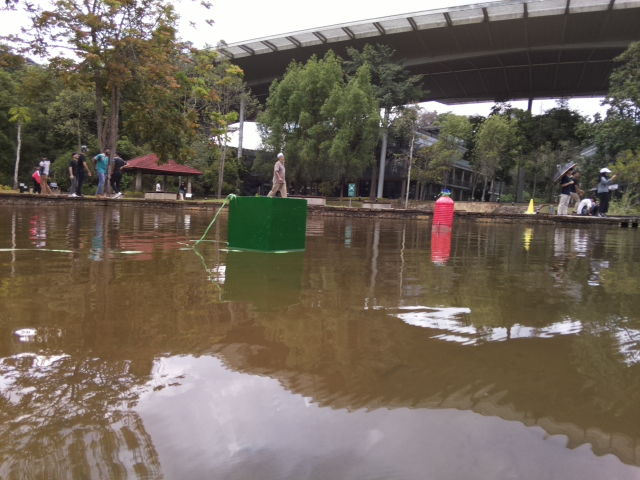checkpoint: (523, 198, 537, 215)
obstacle: (227, 195, 308, 254)
